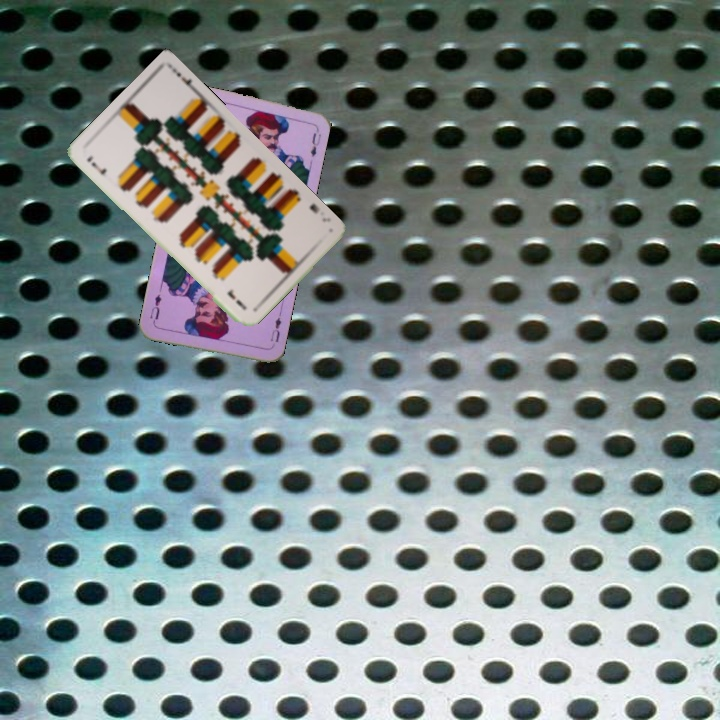E7: (305, 200, 333, 225), (83, 151, 109, 177)
EU: (266, 309, 284, 344)
